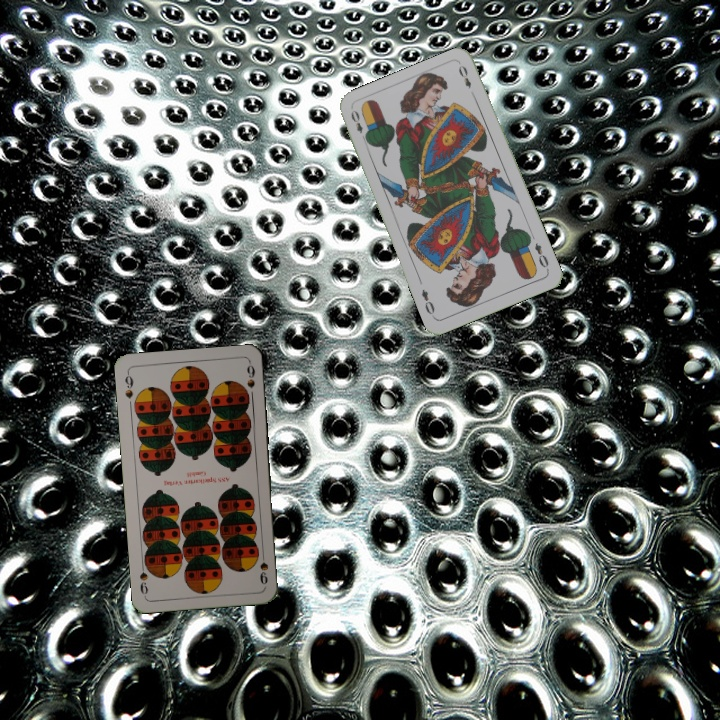EO: (347, 106, 370, 145), (530, 239, 551, 273)
S9: (256, 547, 271, 587), (121, 368, 136, 401)
